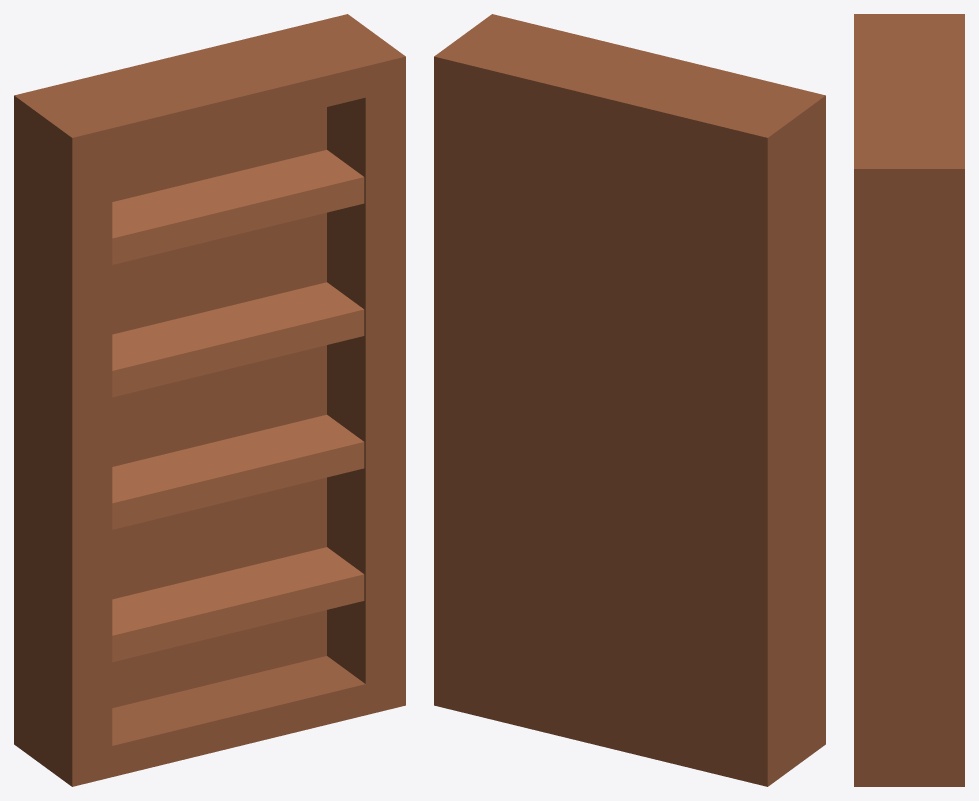
Rendered from bookshelf_1.obj.
The picture shows the model from 3 angles, left to right: view 1: azimuth 30°, elevation 25°; view 2: azimuth 150°, elevation 25°; view 3: azimuth 270°, elevation 25°; orthographic projection. The views are drawn at different scales.
Visible parts, largest first — view 1: bookshelf_1; view 2: bookshelf_1; view 3: bookshelf_1.
Boxes of the visible parts, x1,y1,x2,y2 form: bookshelf_1: (14,14,405,786); bookshelf_1: (434,14,825,786); bookshelf_1: (854,14,964,786).
Size of the model in its own units: 0.4828 by 0.8972 by 0.1456.
